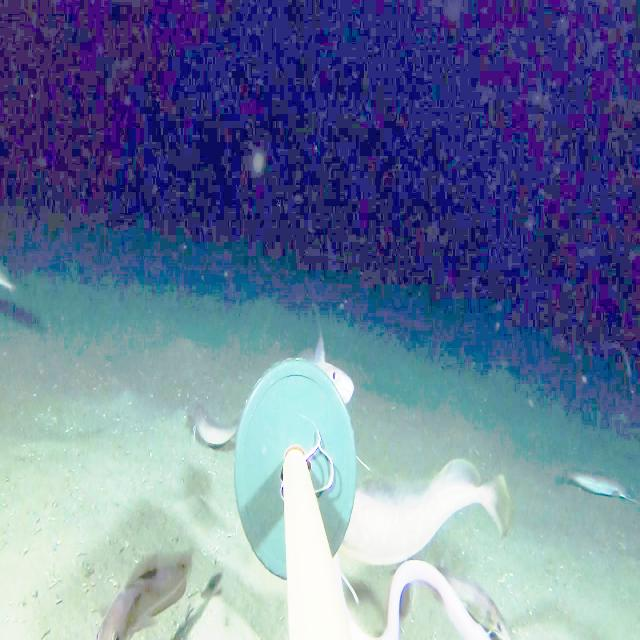eel: (329, 555, 493, 639)
fish: (341, 452, 515, 560), (282, 307, 389, 441), (101, 554, 223, 634), (445, 574, 525, 640), (565, 456, 633, 510), (174, 403, 242, 456), (0, 253, 42, 306), (244, 144, 272, 181)
pole: (234, 365, 358, 560)
